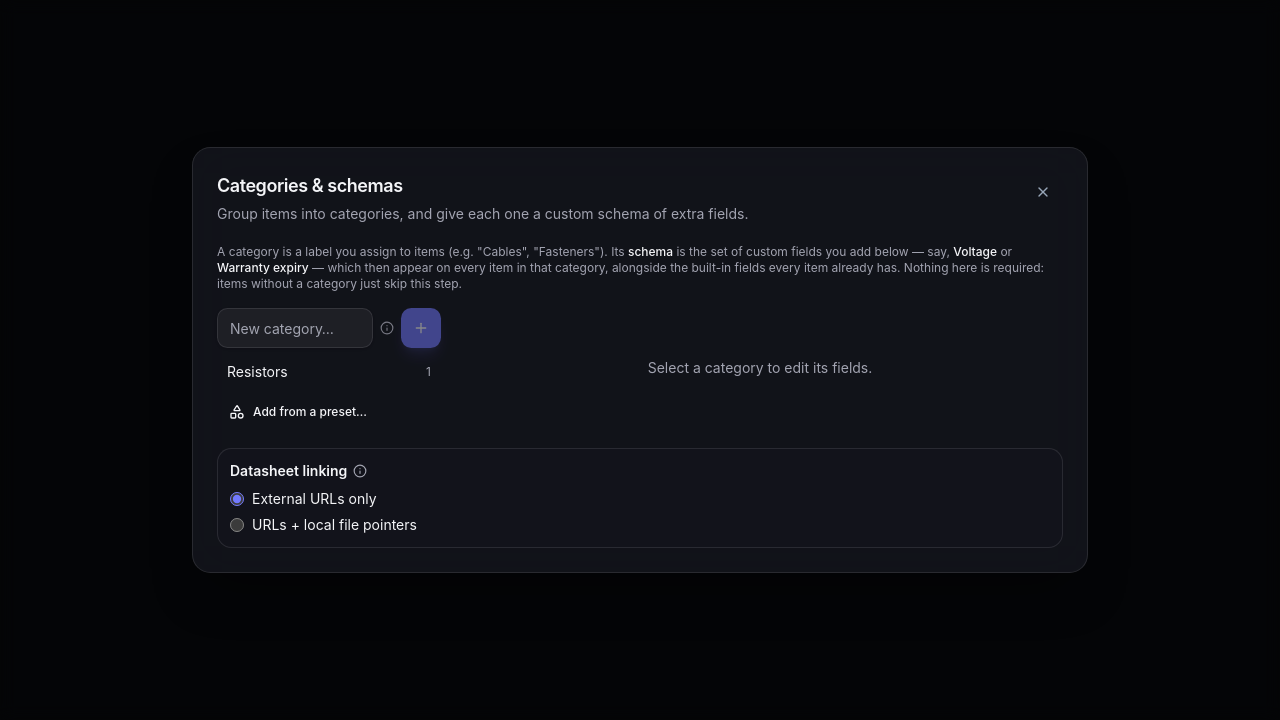
CategoryManagerDialog — the add-field form assembles the input › disables Add field until a name is entered
The width and height of the screenshot is (1280, 720).
Step 1. Click the button "Resistors 1" → click(329, 372), box [217, 356, 441, 388]
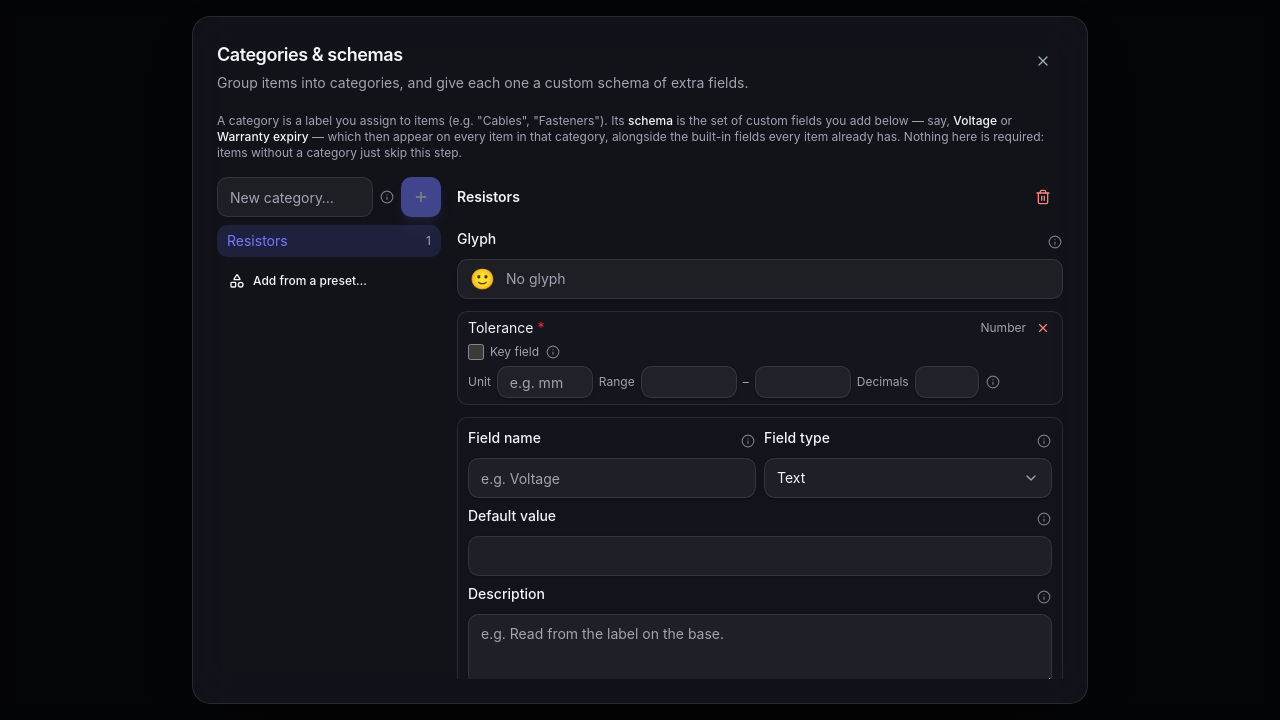
Step 2. Type "Voltage" into the field labelled "Field name" → (612, 478), box [468, 458, 756, 498]
(page scrolled)
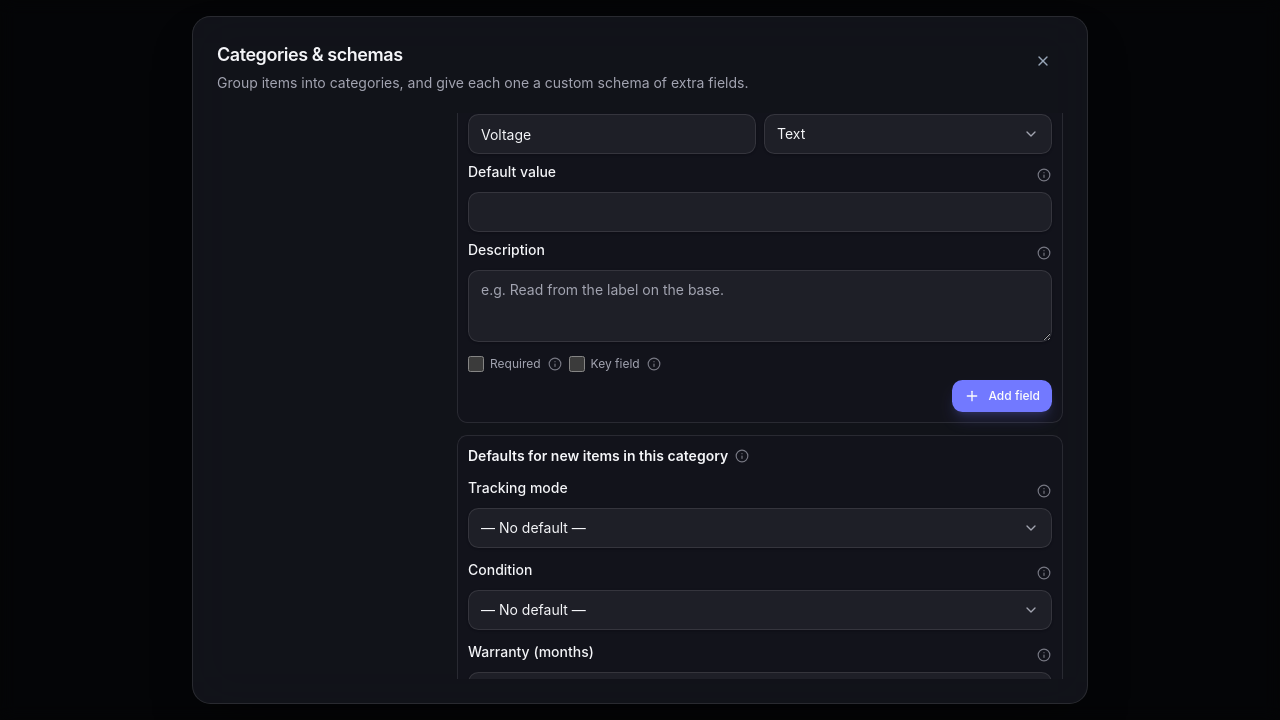
Expected: the button "Add field" is enabled, [952, 380, 1052, 412]
